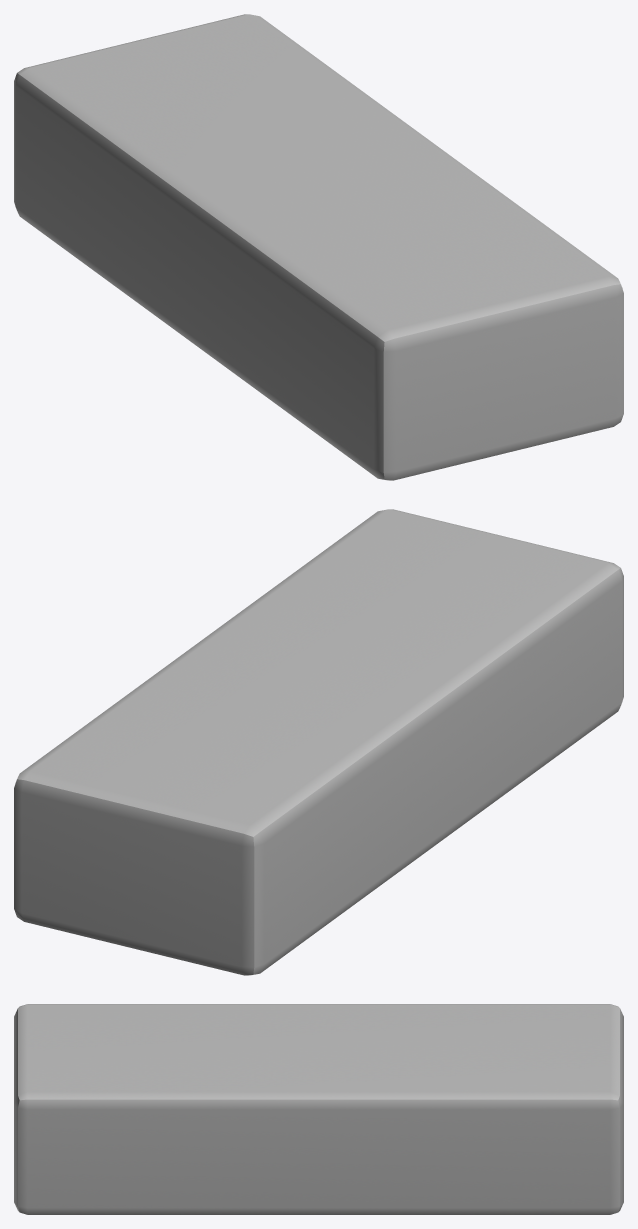
Rendered from Assets2_pCube2.FBX.
3 renders of one model, top to bottom at view 1: azimuth 30°, elevation 25°; view 2: azimuth 150°, elevation 25°; view 3: azimuth 270°, elevation 25°, orthographic. The views are drawn at different scales.
Visible parts, largest first — view 1: Assets2_pCube2; view 2: Assets2_pCube2; view 3: Assets2_pCube2.
Boxes of the visible parts, <box> form: Assets2_pCube2: <box>14,14,623,480</box>; Assets2_pCube2: <box>14,509,623,975</box>; Assets2_pCube2: <box>14,1004,623,1214</box>.
Size of the model in its own units: 62.14 by 162 by 35.95.
1 material, 1 textured.
